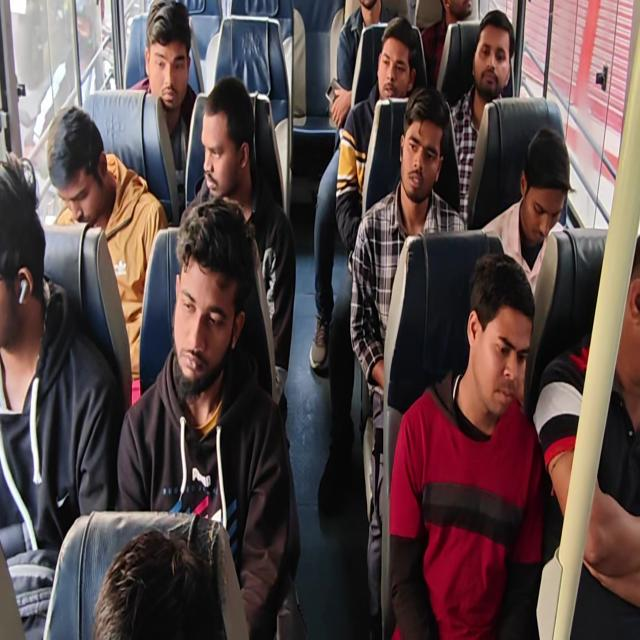person: (73, 528, 240, 640), (161, 199, 252, 401), (37, 80, 116, 240), (466, 248, 534, 426), (0, 134, 49, 362), (194, 83, 260, 206), (392, 80, 449, 201), (518, 124, 566, 258), (607, 230, 640, 408), (143, 0, 194, 112), (467, 12, 525, 107), (372, 15, 413, 104), (443, 0, 478, 24), (352, 0, 381, 19)
